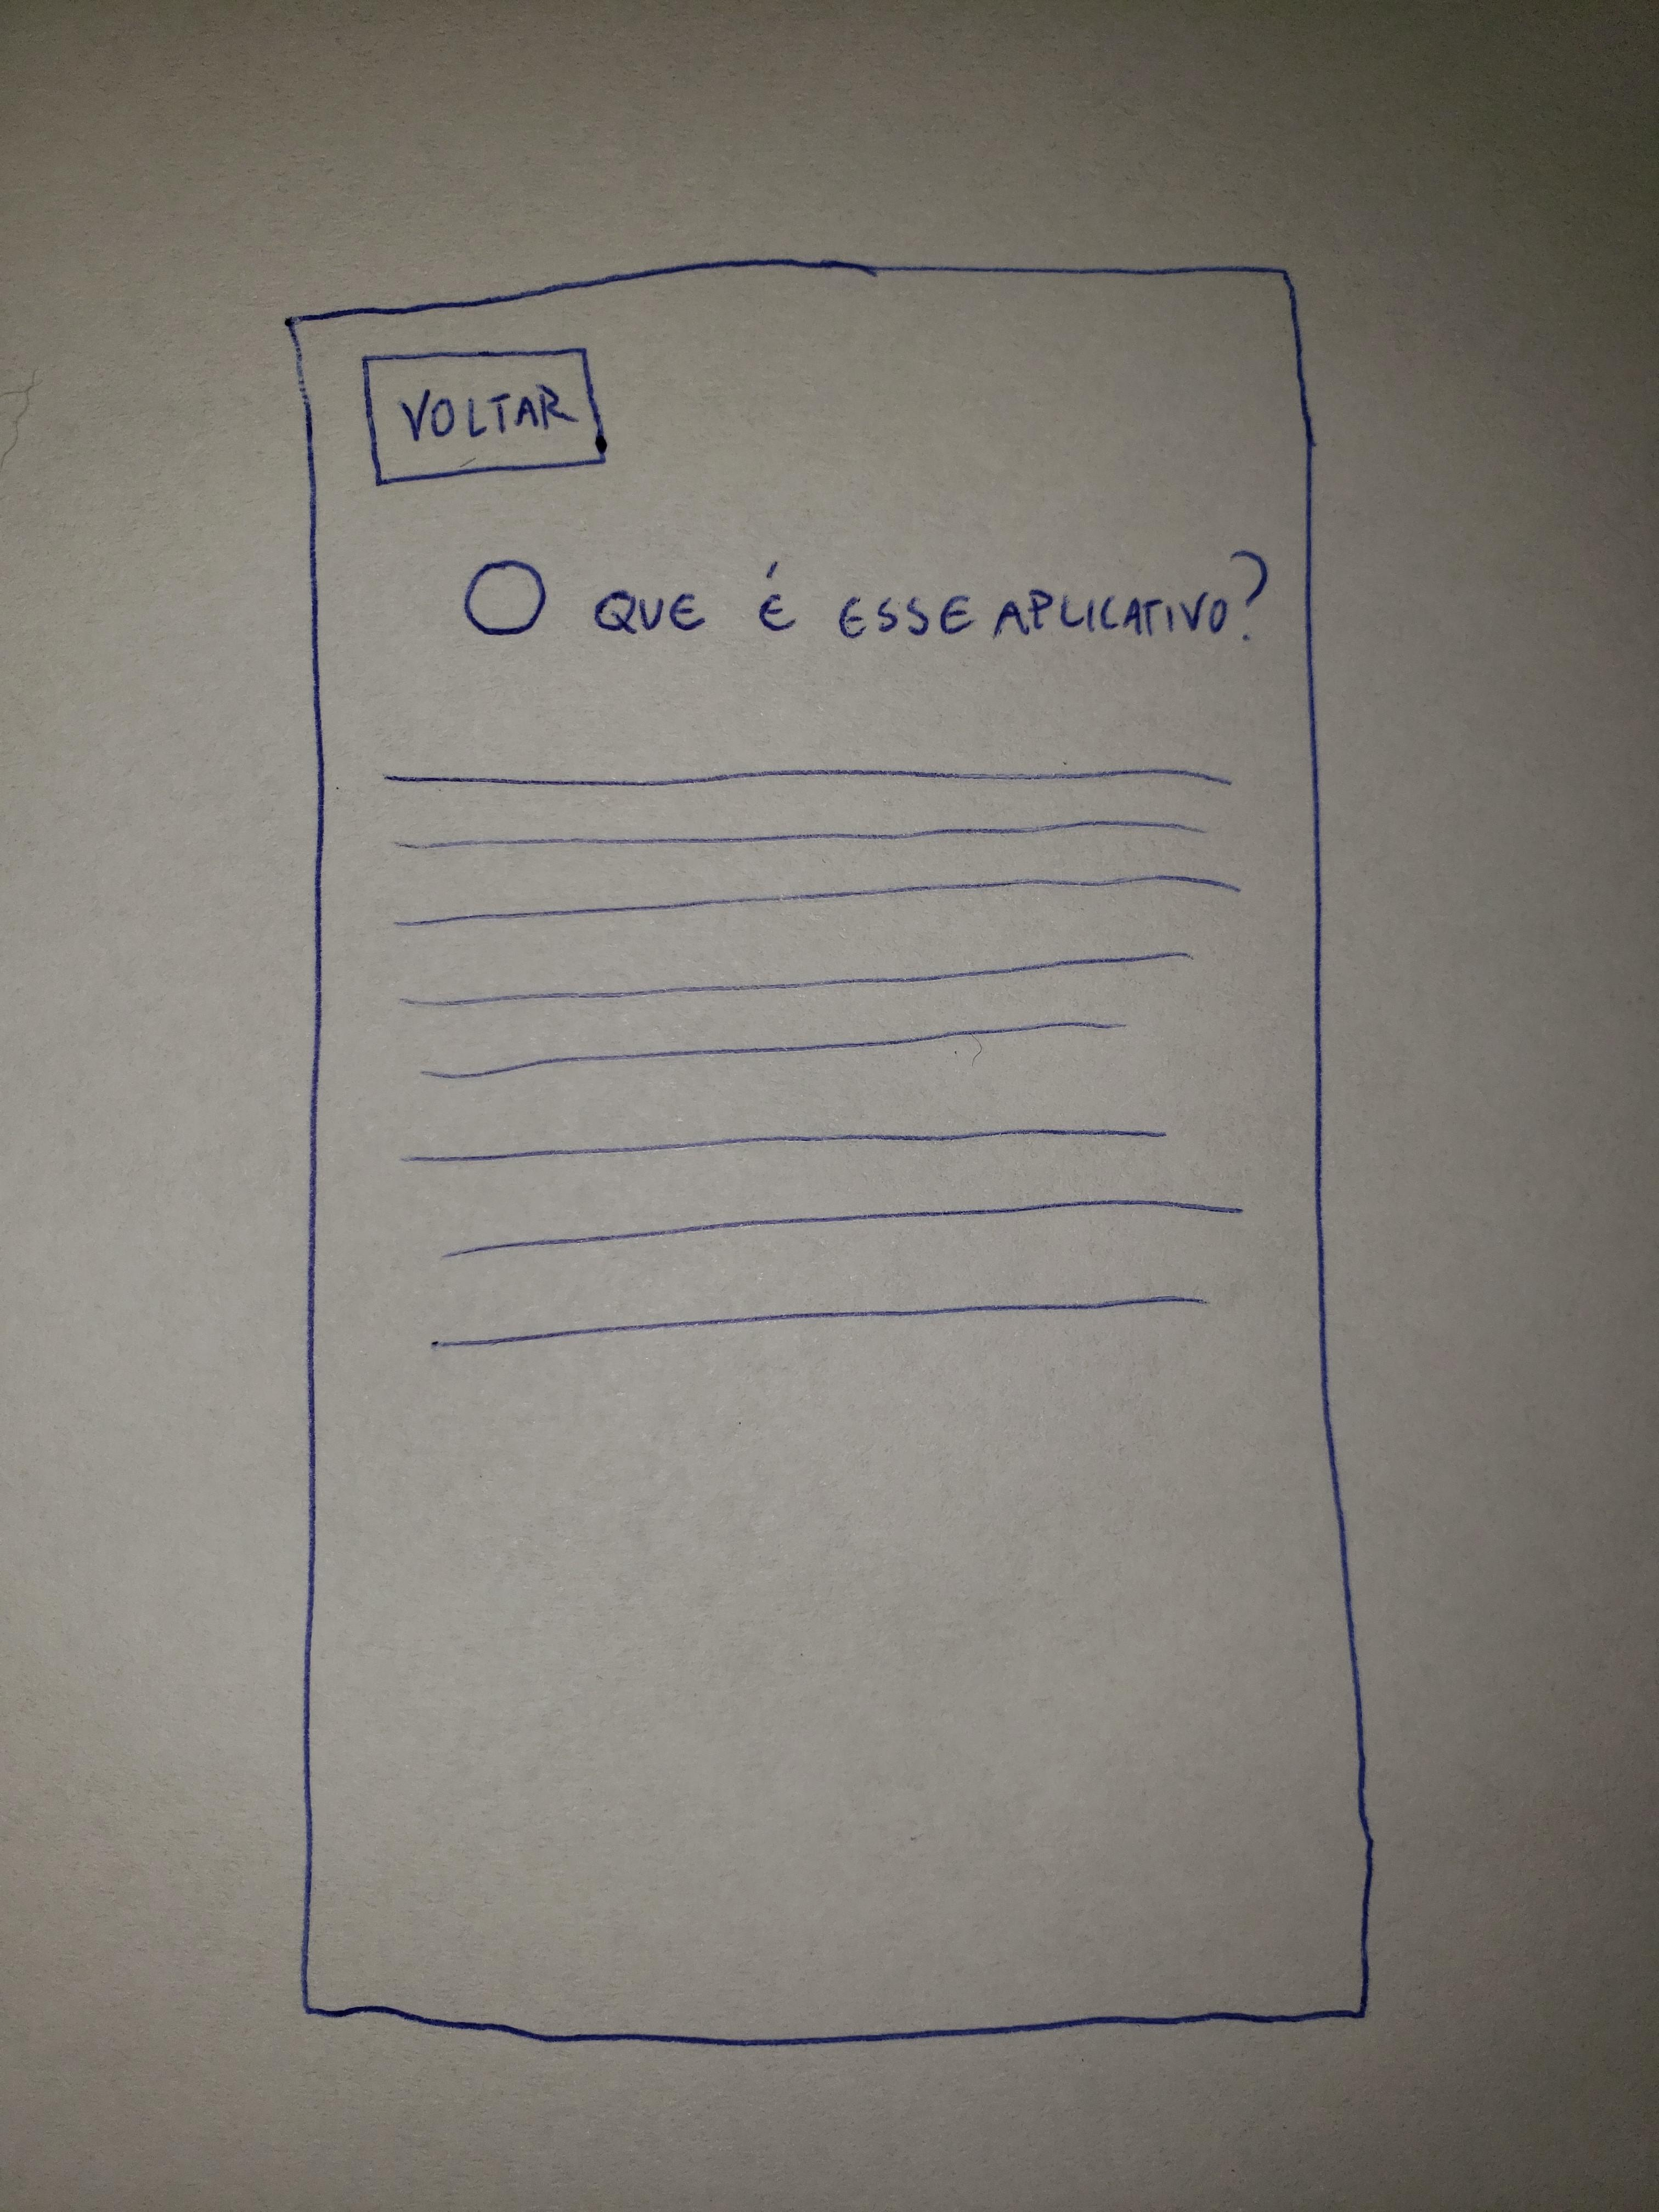Button: (359, 348, 608, 486)
Label: (382, 763, 1253, 1355), (451, 547, 1270, 646)
Screen: (284, 260, 1373, 2050)
